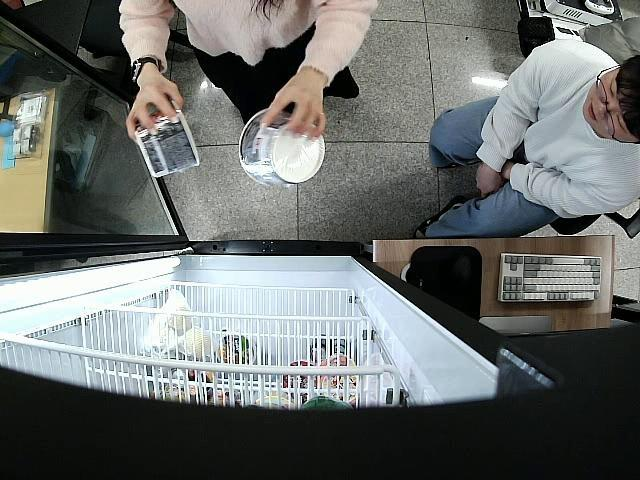07_buldak_L: (240, 110, 326, 190), (138, 101, 199, 180)
